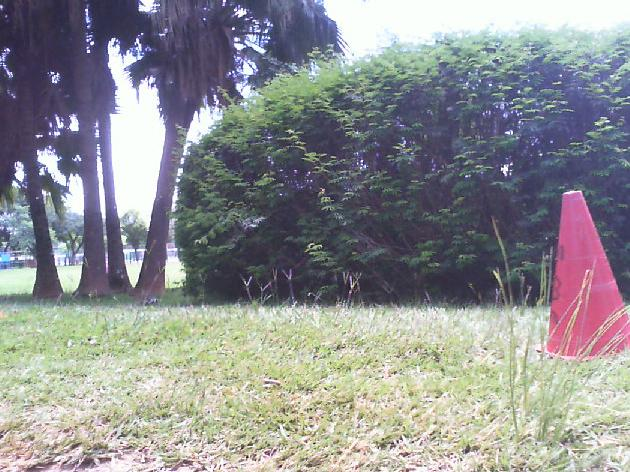0 cone: (535, 191, 630, 364)
